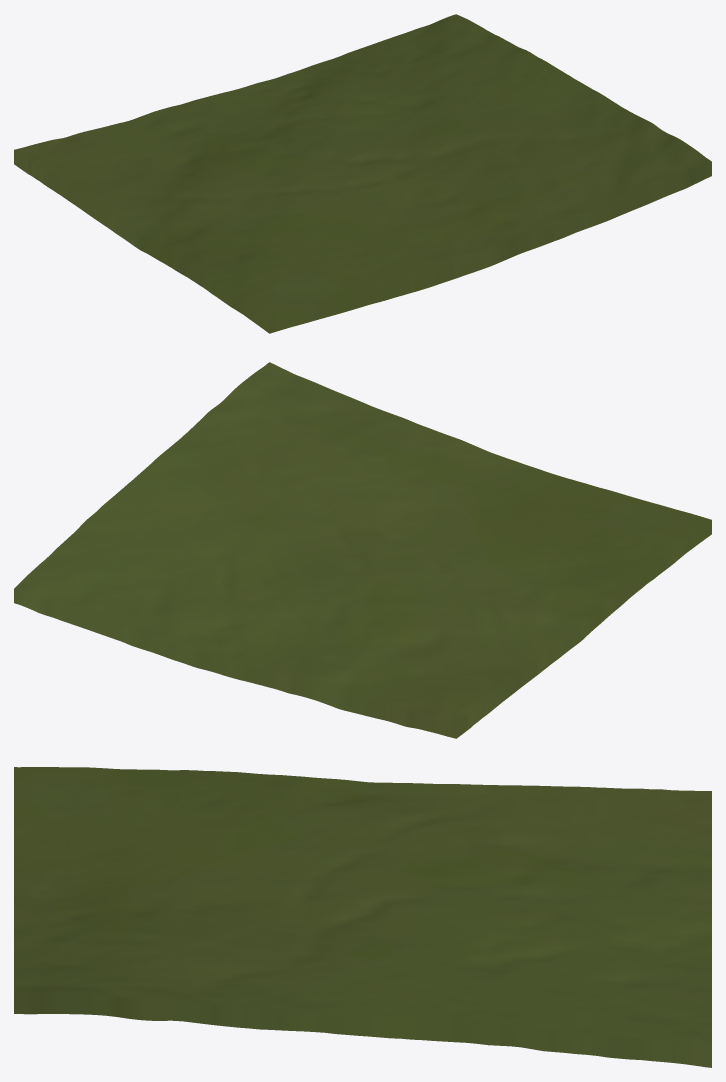
Rendered from terrain_1_-1.glb.
3 renders of one model, top to bottom at view 1: azimuth 30°, elevation 25°; view 2: azimuth 150°, elevation 25°; view 3: azimuth 270°, elevation 25°, orthographic. The views are drawn at different scales.
Visible parts, largest first — view 1: terrain_1_-1; view 2: terrain_1_-1; view 3: terrain_1_-1.
Boxes of the visible parts, box(x1,y1,x2,y2) form: terrain_1_-1: box(14, 14, 711, 333); terrain_1_-1: box(14, 362, 711, 738); terrain_1_-1: box(14, 767, 711, 1067).
Bounding box in the file's own units: 256 × 45.31 × 256.
